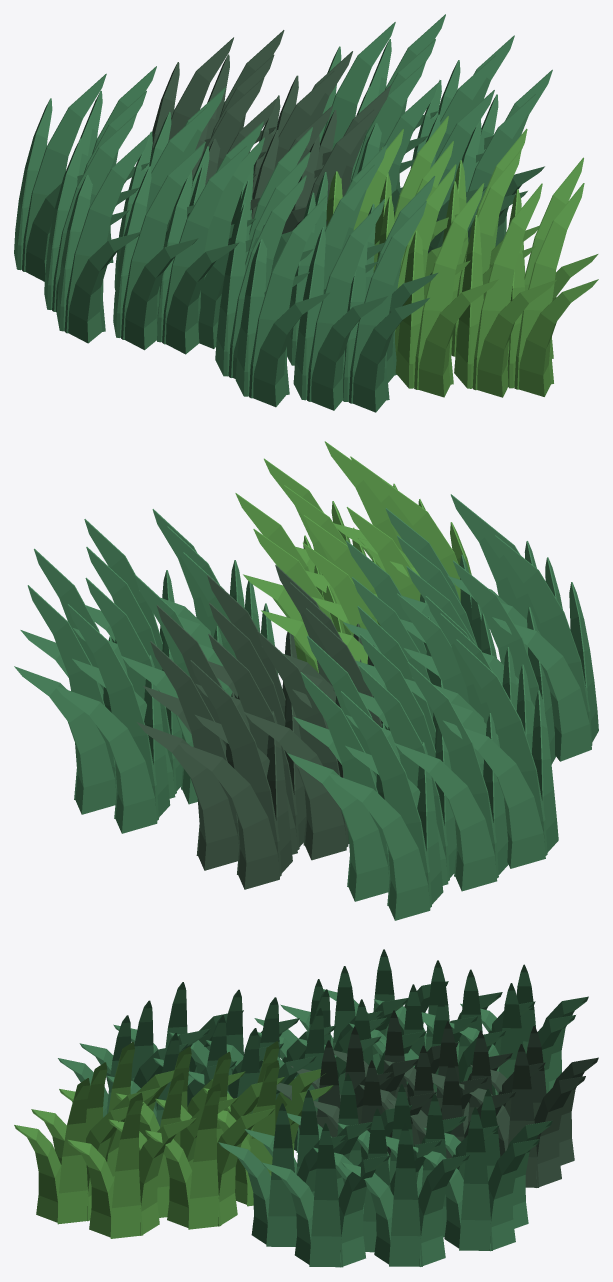
The model's file is grass.fbx.
3 renders of one model, top to bottom at view 1: azimuth 30°, elevation 25°; view 2: azimuth 150°, elevation 25°; view 3: azimuth 270°, elevation 25°, orthographic. The views are drawn at different scales.
Visible parts, largest first — view 1: grass; view 2: grass; view 3: grass.
Boxes of the visible parts, <box> form: grass: <box>14,14,598,412</box>; grass: <box>14,441,598,920</box>; grass: <box>14,949,598,1267</box>.
Bounding box in the file's own units: 0.9367 × 0.3529 × 1.09.
